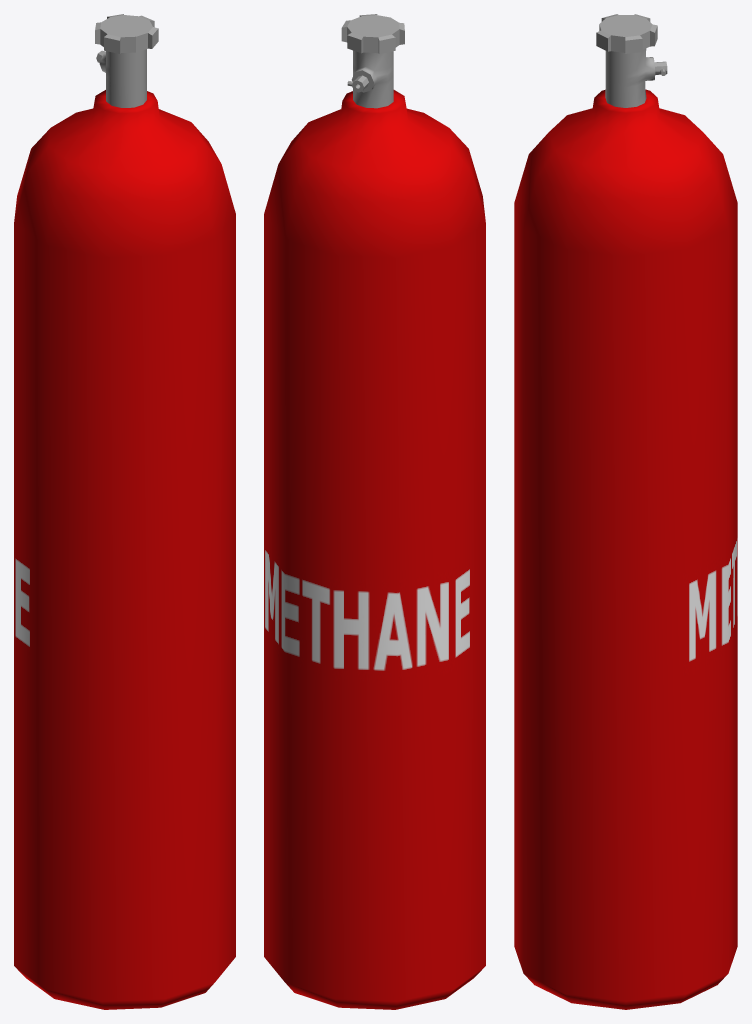
The model's file is METHANE CYLN.fbx.
3 views of the same model, side by side, from view 1: azimuth 30°, elevation 25°; view 2: azimuth 150°, elevation 25°; view 3: azimuth 270°, elevation 25° (orthographic).
Parts seen in each view (by area): view 1: polySurface4; view 2: polySurface4; view 3: polySurface4.
Part boxes in pixels (x1,y1,x2,y2): polySurface4: (14, 14, 235, 1009); polySurface4: (264, 14, 485, 1009); polySurface4: (514, 14, 737, 1009).
Size of the model in its own units: 51.74 by 247 by 52.28.
Materials: 2 (1 with a texture image).
